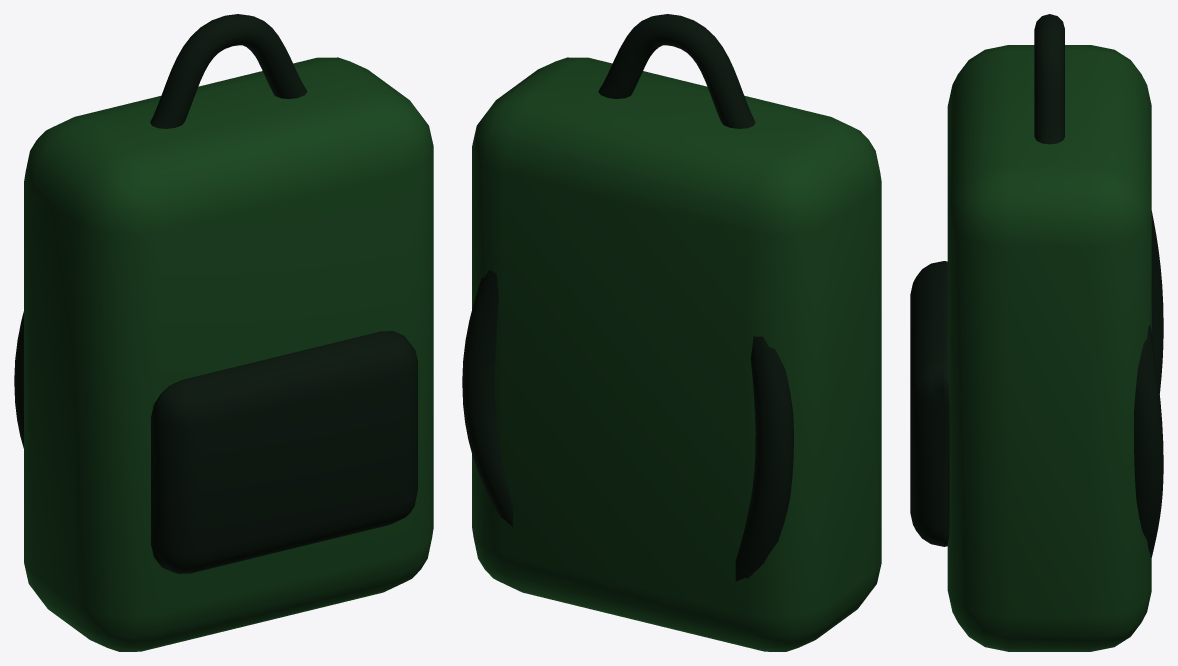
Rendered from Backpack.obj.
The picture shows the model from 3 angles, left to right: view 1: azimuth 30°, elevation 25°; view 2: azimuth 150°, elevation 25°; view 3: azimuth 270°, elevation 25°; orthographic projection. The views are drawn at different scales.
Parts seen in each view (by area): view 1: Backpack_Body, Backpack_Pocket, Backpack_Handle, Backpack_Strap_-1; view 2: Backpack_Body, Backpack_Strap_-1, Backpack_Handle, Backpack_Strap_1; view 3: Backpack_Body, Backpack_Pocket, Backpack_Strap_1, Backpack_Handle, Backpack_Strap_-1.
Part boxes in pixels (x1,y1,x2,y2): Backpack_Body: [24, 57, 433, 651]; Backpack_Pocket: [151, 331, 417, 573]; Backpack_Handle: [150, 14, 307, 128]; Backpack_Strap_-1: [14, 311, 23, 448]; Backpack_Body: [472, 57, 881, 651]; Backpack_Strap_-1: [735, 336, 793, 581]; Backpack_Handle: [598, 14, 755, 128]; Backpack_Strap_1: [462, 270, 513, 526]; Backpack_Body: [947, 45, 1151, 651]; Backpack_Pocket: [910, 261, 949, 546]; Backpack_Strap_1: [1133, 324, 1163, 557]; Backpack_Handle: [1034, 14, 1064, 144]; Backpack_Strap_-1: [1151, 211, 1163, 393].
Size of the model in its own units: 1.16 by 1.85 by 0.7449.
